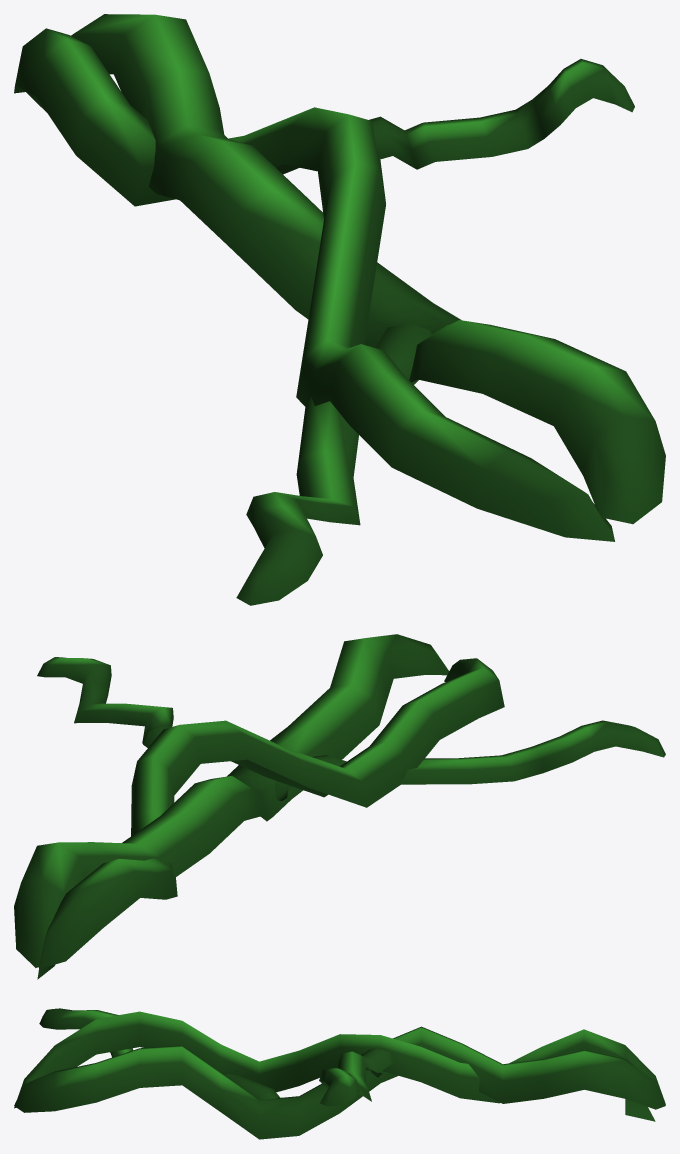
Rendered from vine9.fbx.
3 views of the same model, one above another, from view 1: azimuth 30°, elevation 25°; view 2: azimuth 150°, elevation 25°; view 3: azimuth 270°, elevation 25° (orthographic). The views are drawn at different scales.
Parts seen in each view (by area): view 1: pCube95; view 2: pCube95; view 3: pCube95.
Part boxes in pixels (<box>): pCube95: <box>14,14,665,605</box>; pCube95: <box>14,634,665,979</box>; pCube95: <box>14,1008,665,1139</box>.
Bounding box in the file's own units: 61.84 × 18.82 × 97.75.
